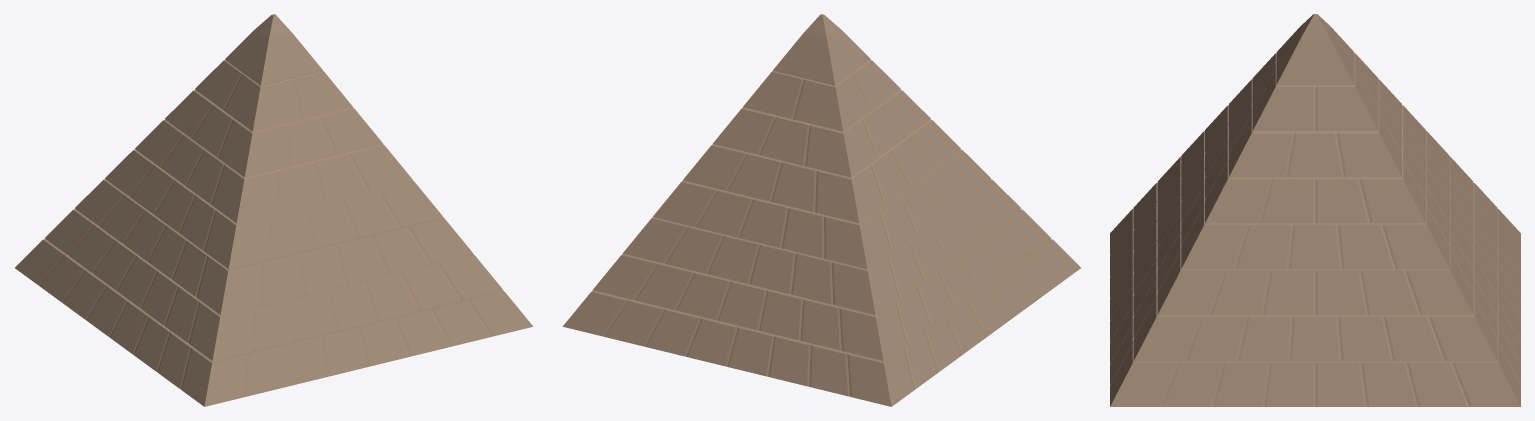
3 views of the same model, side by side, from view 1: azimuth 30°, elevation 25°; view 2: azimuth 150°, elevation 25°; view 3: azimuth 270°, elevation 25° (orthographic). The views are drawn at different scales.
Visible parts, largest first — view 1: Cube; view 2: Cube; view 3: Cube.
Boxes of the visible parts, x1,y1,x2,y2 form: Cube: [15, 14, 532, 406]; Cube: [563, 14, 1080, 406]; Cube: [1110, 14, 1520, 406].
Bounding box in the file's own units: 8.52 × 8.52 × 6.98.
